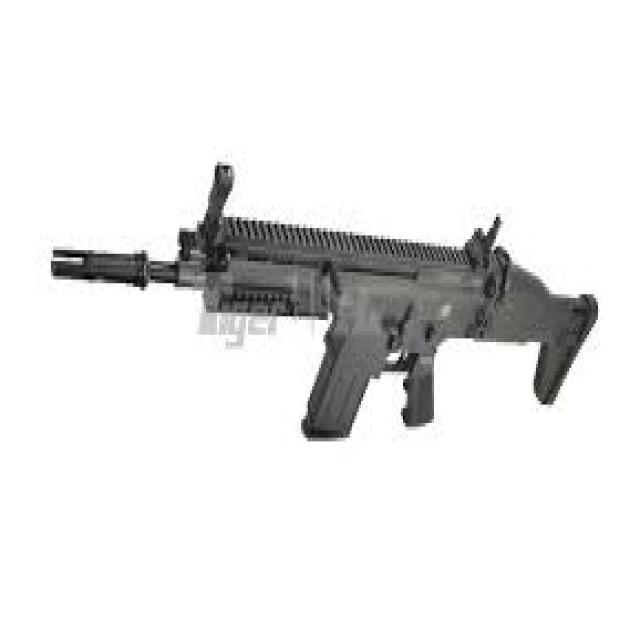Gun: (42, 158, 601, 456)
